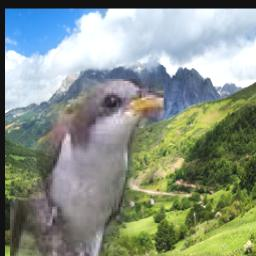Cuckoo: (11, 79, 165, 256)
